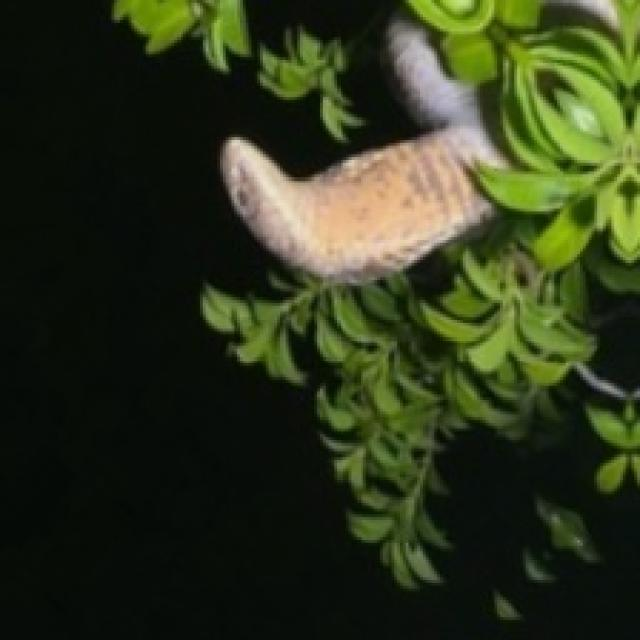king cobra: (203, 0, 637, 586), (220, 14, 506, 283)
